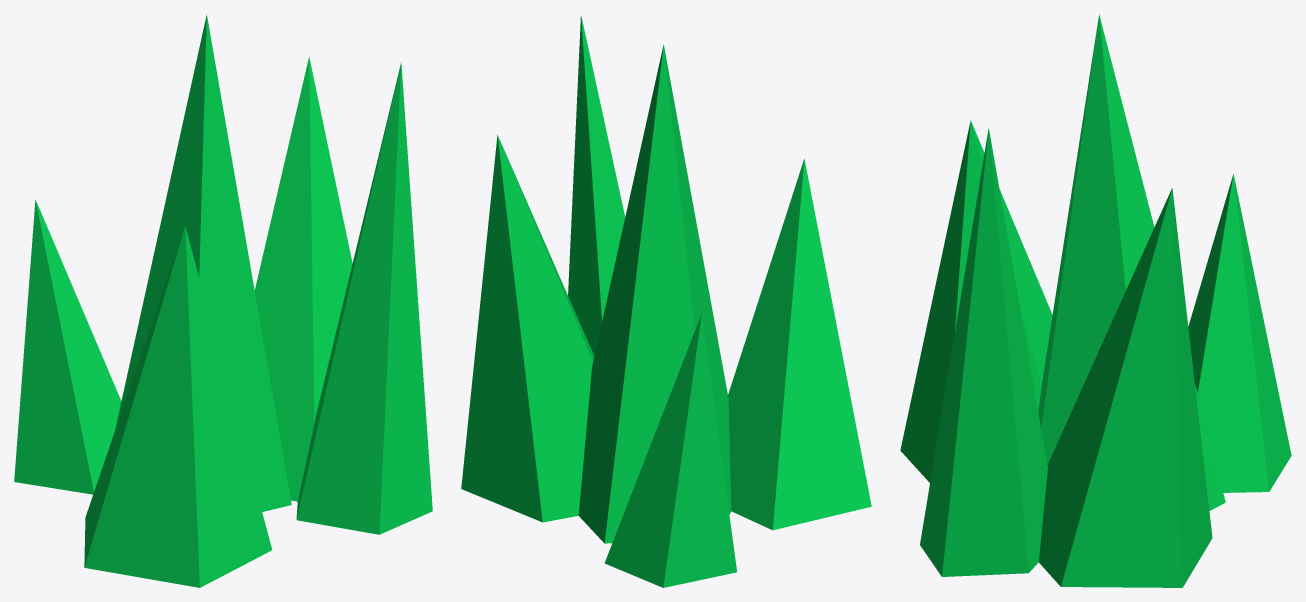
The model's file is GrassModel.fbx.
3 views of the same model, side by side, from view 1: azimuth 30°, elevation 25°; view 2: azimuth 150°, elevation 25°; view 3: azimuth 270°, elevation 25° (orthographic). The views are drawn at different scales.
Visible parts, largest first — view 1: Cone.004; view 2: Cone.004; view 3: Cone.004.
Boxes of the visible parts, bbox=[...] form: Cone.004: bbox=[14, 14, 432, 587]; Cone.004: bbox=[461, 15, 871, 587]; Cone.004: bbox=[900, 14, 1291, 587].
Bounding box in the file's own units: 150 × 200 × 145.
